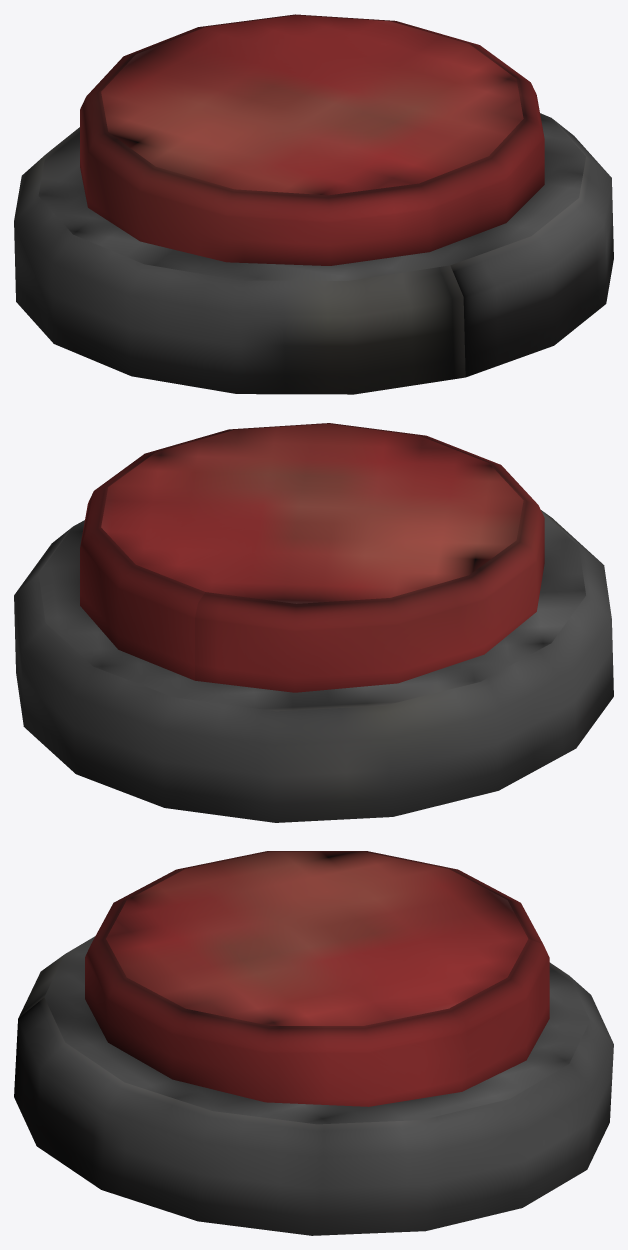
File: botao.glb
3 views of the same model, one above another, from view 1: azimuth 30°, elevation 25°; view 2: azimuth 150°, elevation 25°; view 3: azimuth 270°, elevation 25° (orthographic).
Parts seen in each view (by area): view 1: botaoEnergia.002; view 2: botaoEnergia.002; view 3: botaoEnergia.002.
Boxes of the visible parts, x1,y1,x2,y2 form: botaoEnergia.002: [14, 14, 613, 394]; botaoEnergia.002: [14, 423, 613, 822]; botaoEnergia.002: [14, 851, 613, 1235].
Bounding box in the file's own units: 0.4745 × 0.1612 × 0.4772.
1 material, 1 textured.
